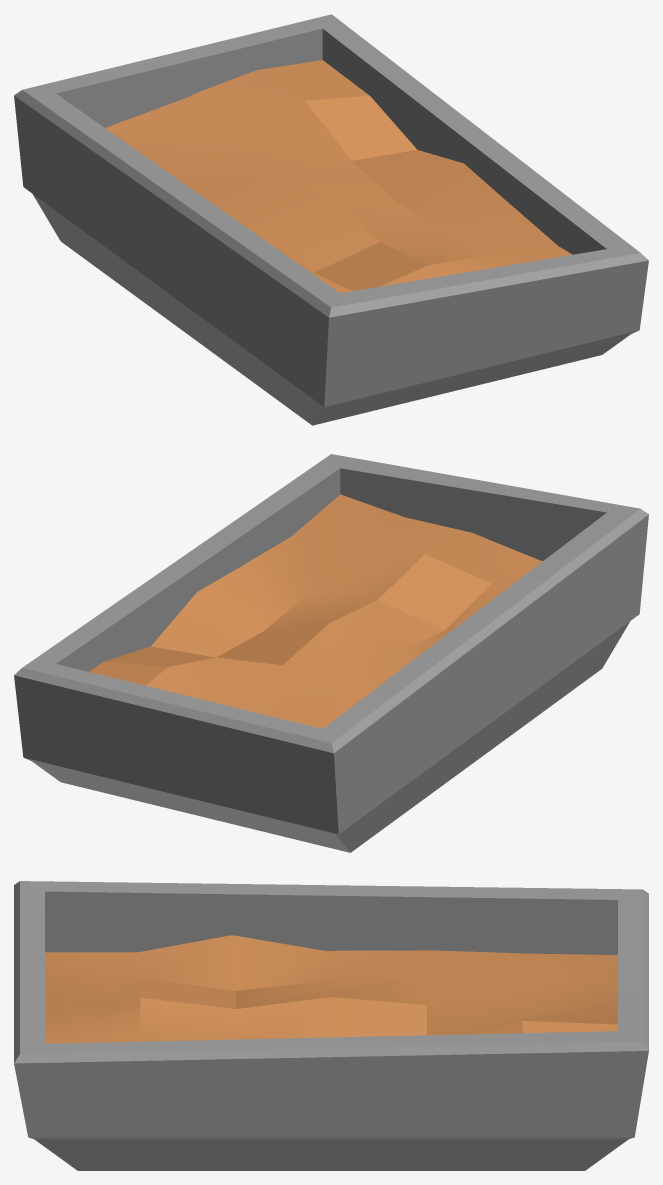
The model's file is fooddish_a004.glb.
3 renders of one model, top to bottom at view 1: azimuth 30°, elevation 25°; view 2: azimuth 150°, elevation 25°; view 3: azimuth 270°, elevation 25°, orthographic.
Parts seen in each view (by area): view 1: fooddish_a004; view 2: fooddish_a004; view 3: fooddish_a004.
Part boxes in pixels (x1,y1,x2,y2): fooddish_a004: (14,14,648,425); fooddish_a004: (14,454,648,852); fooddish_a004: (14,881,648,1170).
Size of the model in its own units: 0.6006 by 0.2537 by 1.02.
1 material, 1 textured.
